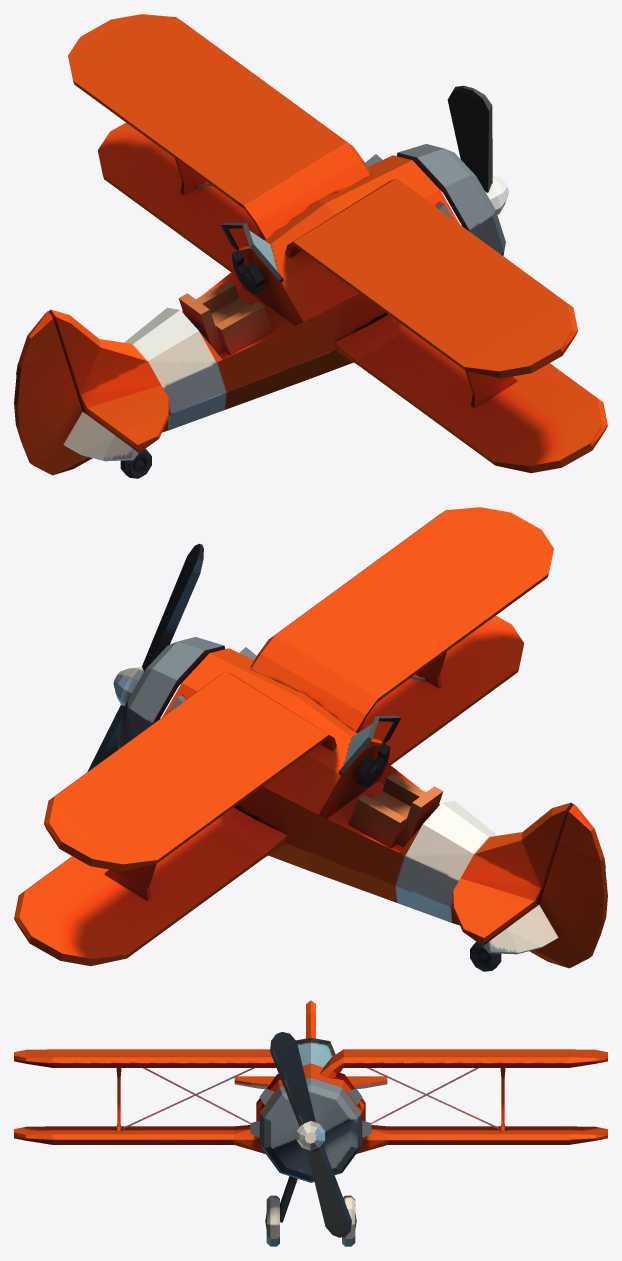
3 views of the same model, one above another, from view 1: azimuth 30°, elevation 25°; view 2: azimuth 150°, elevation 25°; view 3: azimuth 270°, elevation 25° (orthographic). The views are drawn at different scales.
Parts seen in each view (by area): view 1: PUSHILIN_Plane_Circle.000, PUSHILIN_Plane_Circle.001; view 2: PUSHILIN_Plane_Circle.000, PUSHILIN_Plane_Circle.001; view 3: PUSHILIN_Plane_Circle.000, PUSHILIN_Plane_Circle.001.
Boxes of the visible parts, box(x1,y1,x2,y2) form: PUSHILIN_Plane_Circle.000: box(14, 14, 607, 478); PUSHILIN_Plane_Circle.001: box(447, 85, 508, 214); PUSHILIN_Plane_Circle.000: box(14, 507, 607, 971); PUSHILIN_Plane_Circle.001: box(87, 543, 203, 771); PUSHILIN_Plane_Circle.000: box(14, 1000, 607, 1246); PUSHILIN_Plane_Circle.001: box(270, 1032, 351, 1237).
Bounding box in the file's own units: 2.47 × 1.54 × 3.78.
Materials: 1 (1 with a texture image).
